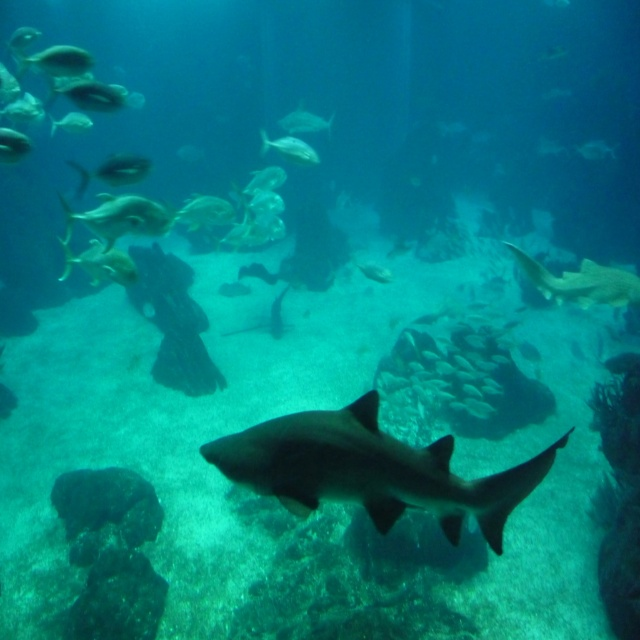Shark: (201, 386, 578, 558)
